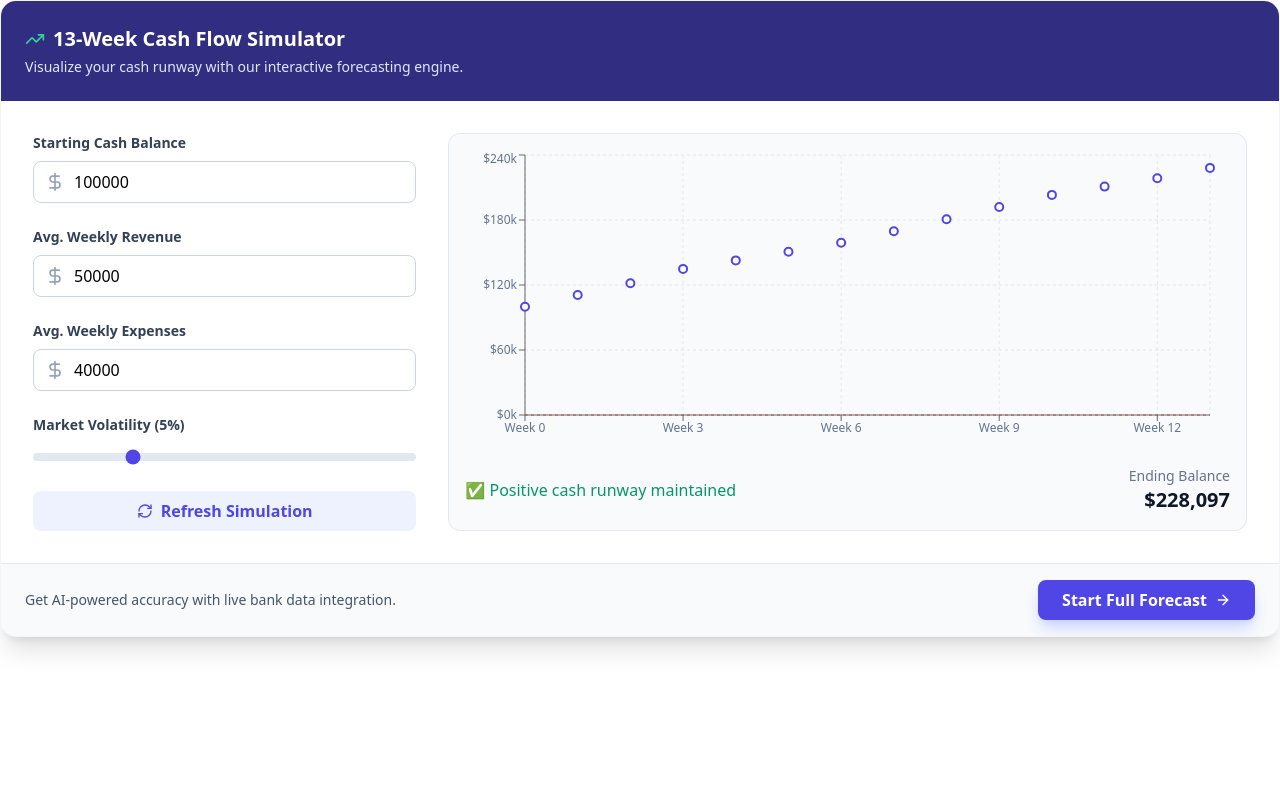
Scenario: CashFlowCalculator › updates volatility when slider changes
Set the slider to "10" at coordinates (225, 457), box left=33, top=453, right=416, bottom=461
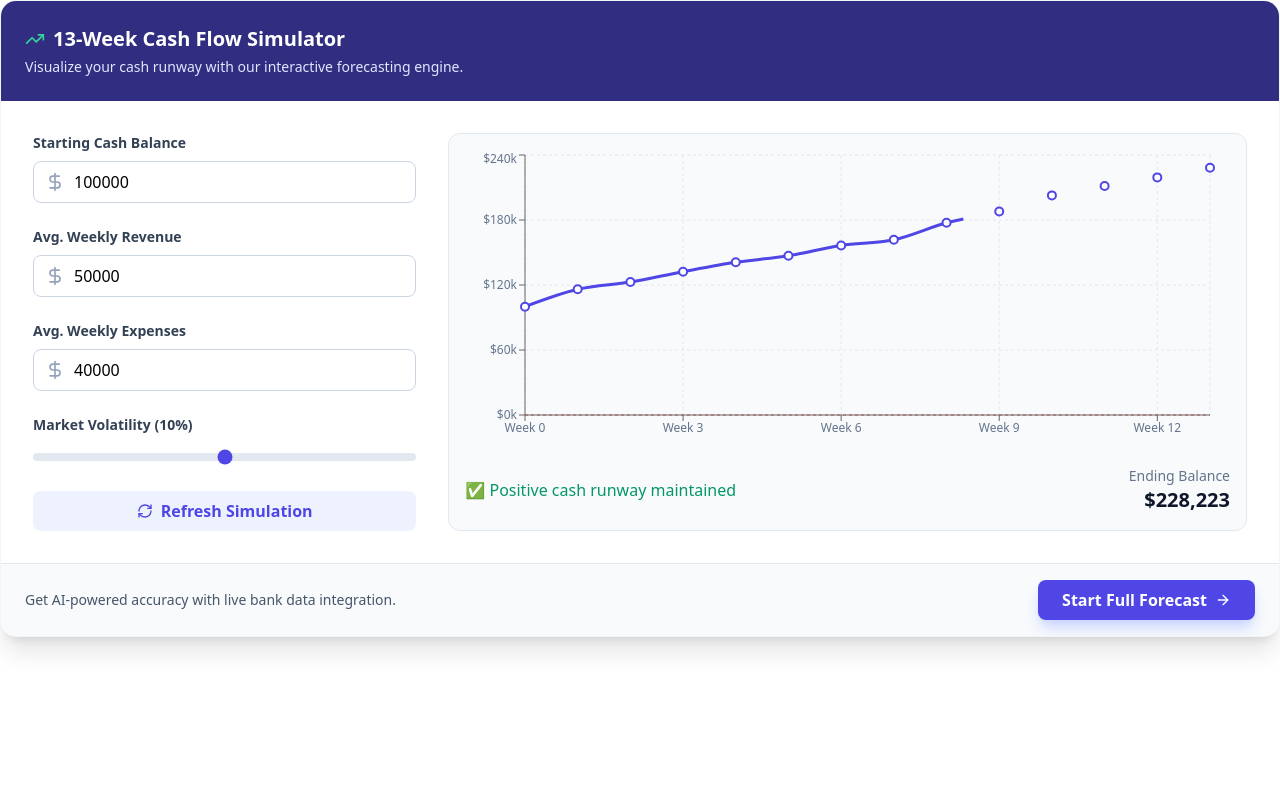
Now the text "Market Volatility (10%)" is shown, box left=33, top=415, right=193, bottom=434
